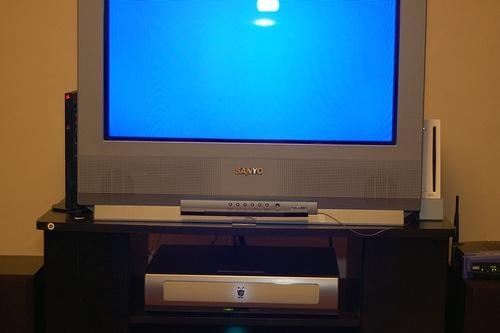tvmonitor: (79, 1, 434, 216)
